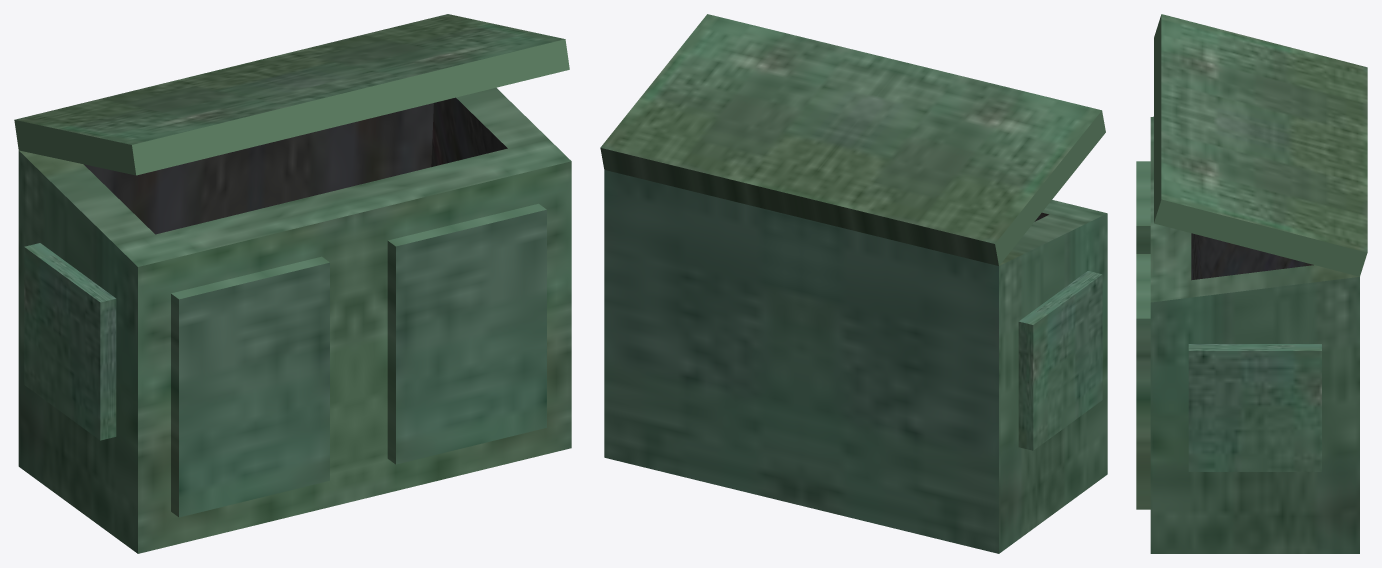
File: Bin.fbx
3 views of the same model, side by side, from view 1: azimuth 30°, elevation 25°; view 2: azimuth 150°, elevation 25°; view 3: azimuth 270°, elevation 25° (orthographic). The views are drawn at different scales.
Visible parts, largest first — view 1: Cube; view 2: Cube; view 3: Cube.
Boxes of the visible parts, left/top/right/bottom form: Cube: left=14, top=14, right=571, bottom=553; Cube: left=600, top=14, right=1107, bottom=553; Cube: left=1136, top=14, right=1367, bottom=553.
Size of the model in its own units: 706 by 586 by 346.
Materials: 1 (1 with a texture image).
